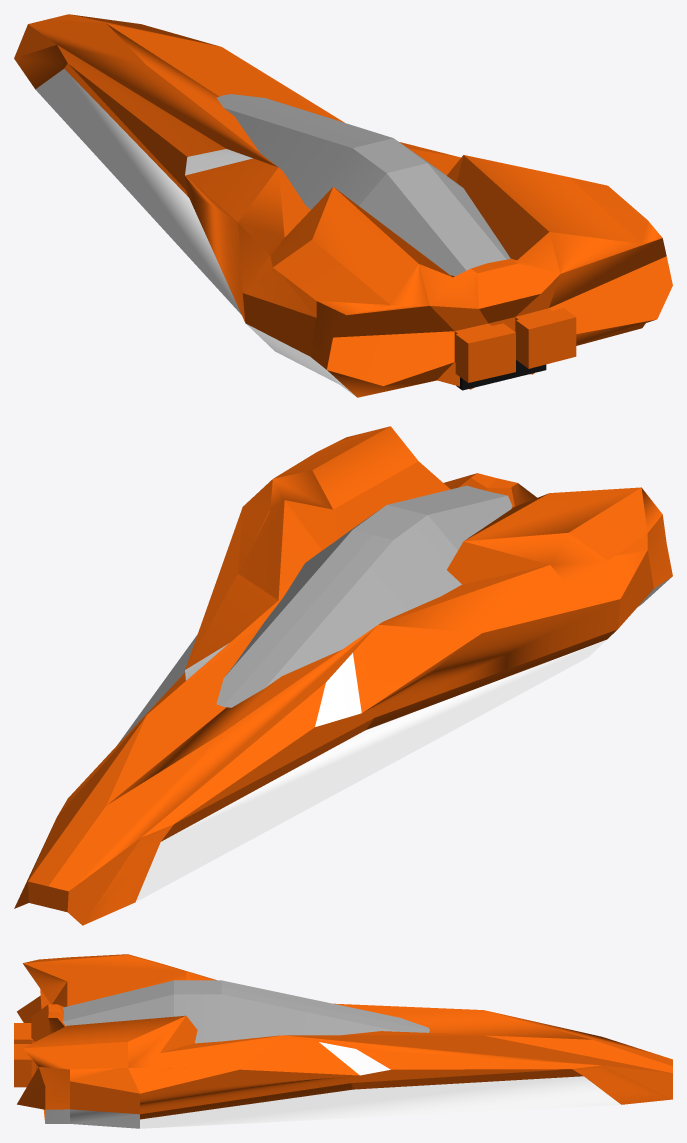
Rendered from Spiral.obj.
3 renders of one model, top to bottom at view 1: azimuth 30°, elevation 25°; view 2: azimuth 150°, elevation 25°; view 3: azimuth 270°, elevation 25°, orthographic. The views are drawn at different scales.
Visible parts, largest first — view 1: car, pilot, Plate; view 2: car, pilot; view 3: car, pilot.
Part boxes in pixels (x1,y1,x2,y2): car: (14, 14, 672, 397); pilot: (216, 94, 510, 276); Plate: (456, 360, 546, 390); car: (14, 426, 672, 925); pilot: (216, 485, 512, 707); car: (14, 954, 672, 1128); pilot: (62, 980, 429, 1043).
Bounding box in the file's own units: 6.39 × 2.34 × 13.88.
